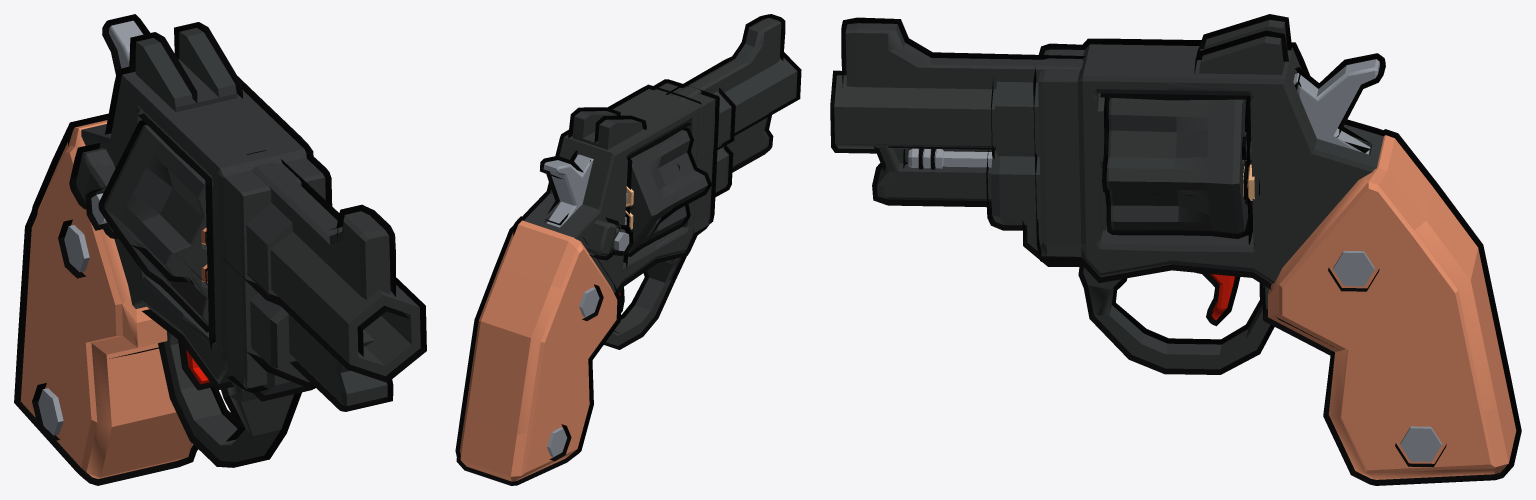
The model's file is gun.glb.
3 views of the same model, side by side, from view 1: azimuth 30°, elevation 25°; view 2: azimuth 150°, elevation 25°; view 3: azimuth 270°, elevation 25° (orthographic). The views are drawn at different scales.
Visible parts, largest first — view 1: Cube_Black_0, Cube_Wood_0, Cube_Outline_0, Cube_Metal_0; view 2: Cube_Black_0, Cube_Wood_0, Cube_Outline_0, Cube_Metal_0; view 3: Cube_Black_0, Cube_Wood_0, Cube_Outline_0, Cube_Metal_0.
Part boxes in pixels (x1,y1,x2,y2): Cube_Black_0: (76,28,420,461); Cube_Wood_0: (20,120,193,478); Cube_Outline_0: (14,14,426,485); Cube_Metal_0: (38,20,143,435); Cube_Black_0: (524,18,797,345); Cube_Wood_0: (459,220,617,481); Cube_Outline_0: (455,14,801,485); Cube_Metal_0: (543,154,629,457); Cube_Black_0: (834,19,1383,369); Cube_Wood_0: (1268,135,1516,479); Cube_Outline_0: (830,14,1521,485); Cube_Metal_0: (908,59,1441,461).
Size of the model in its own units: 0.0864 by 0.2144 by 0.31.
